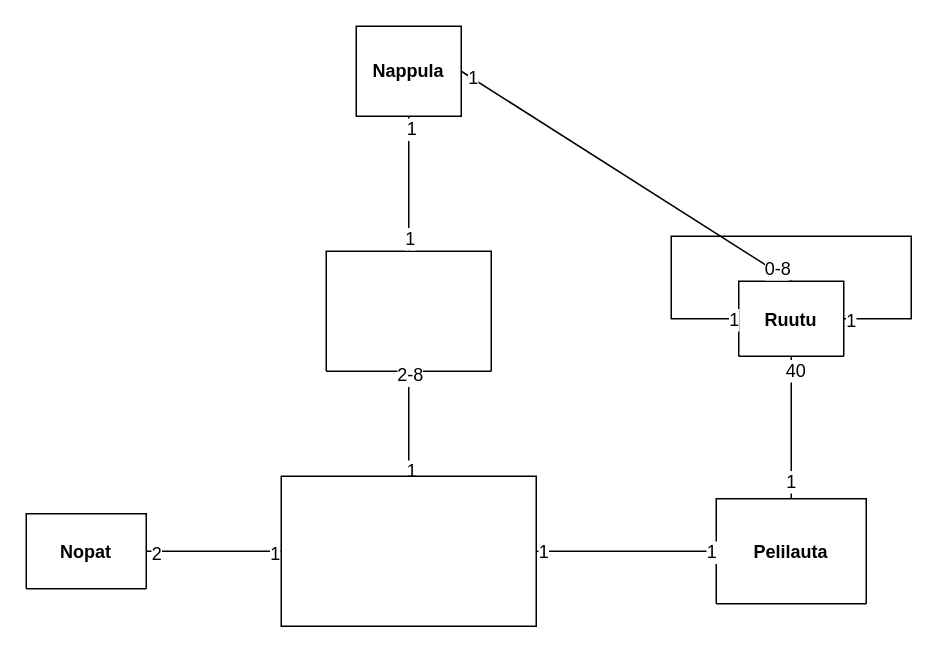
Image size: 939x653. Some labels were removed from this diagram. Here are the shapes that lost their labels. From the top down, the box of each, then its label:
(325, 250, 491, 371): Pelaaja
(280, 475, 536, 626): Monopoli
